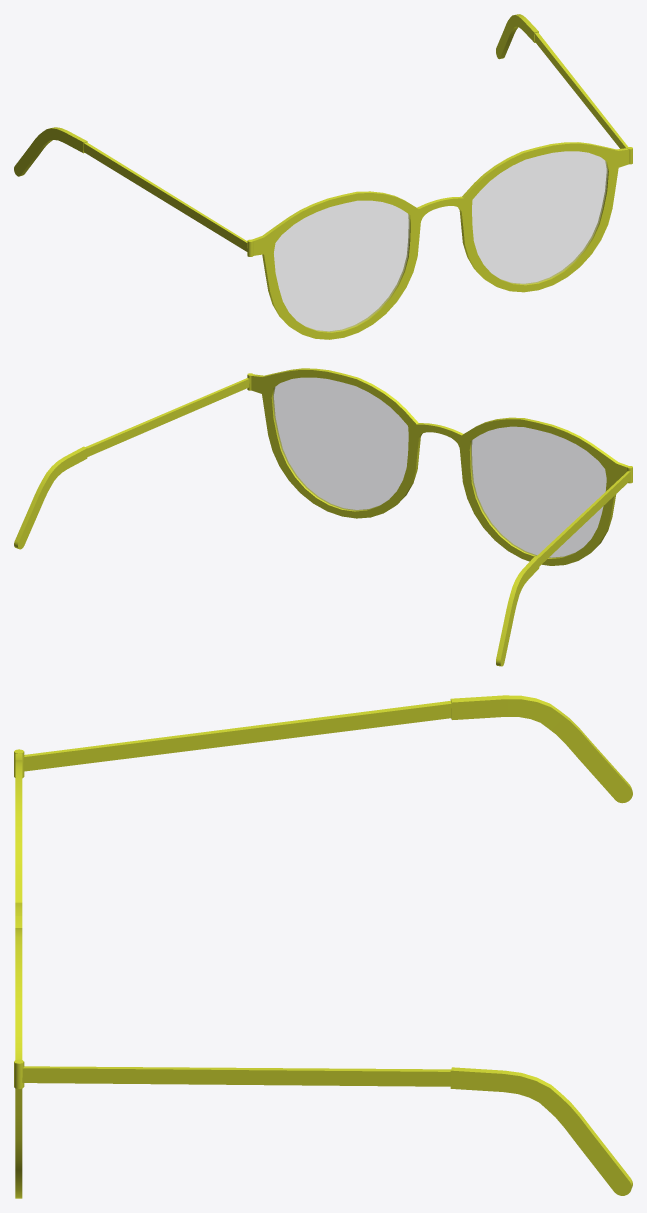
3 renders of one model, top to bottom at view 1: azimuth 30°, elevation 25°; view 2: azimuth 150°, elevation 25°; view 3: azimuth 270°, elevation 25°, orthographic. The views are drawn at different scales.
Visible parts, largest first — view 1: Lens, Material.011; view 2: Lens, Material.011; view 3: Material.011.
Part boxes in pixels (x1=…): Lens: x1=274, y1=151, x2=607, y2=332; Material.011: x1=14, y1=14, x2=632, y2=339; Lens: x1=272, y1=377, x2=606, y2=558; Material.011: x1=14, y1=368, x2=632, y2=666; Material.011: x1=14, y1=695, x2=632, y2=1198.
Size of the model in its own units: 2.2 by 0.6109 by 1.45.
